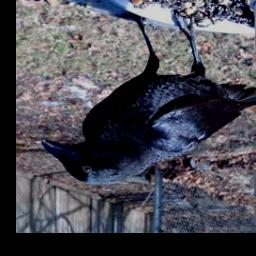Crow: (41, 10, 256, 186)
